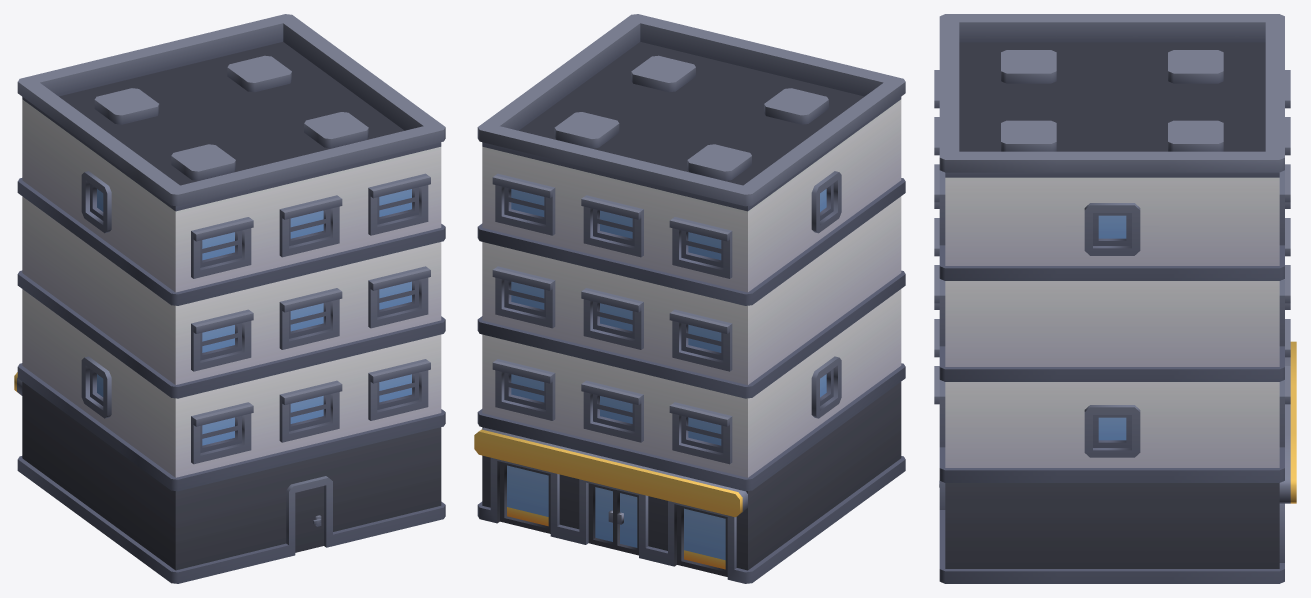
The model's file is building-i.glb.
3 renders of one model, left to right at view 1: azimuth 30°, elevation 25°; view 2: azimuth 150°, elevation 25°; view 3: azimuth 270°, elevation 25°, orthographic. The views are drawn at different scales.
Parts seen in each view (by area): view 1: building-i; view 2: building-i; view 3: building-i.
Boxes of the visible parts, <box> form: building-i: <box>14,14,445,583</box>; building-i: <box>474,14,905,583</box>; building-i: <box>934,14,1296,583</box>.
Size of the model in its own units: 1.24 by 1.68 by 1.3.
1 material, 1 textured.
